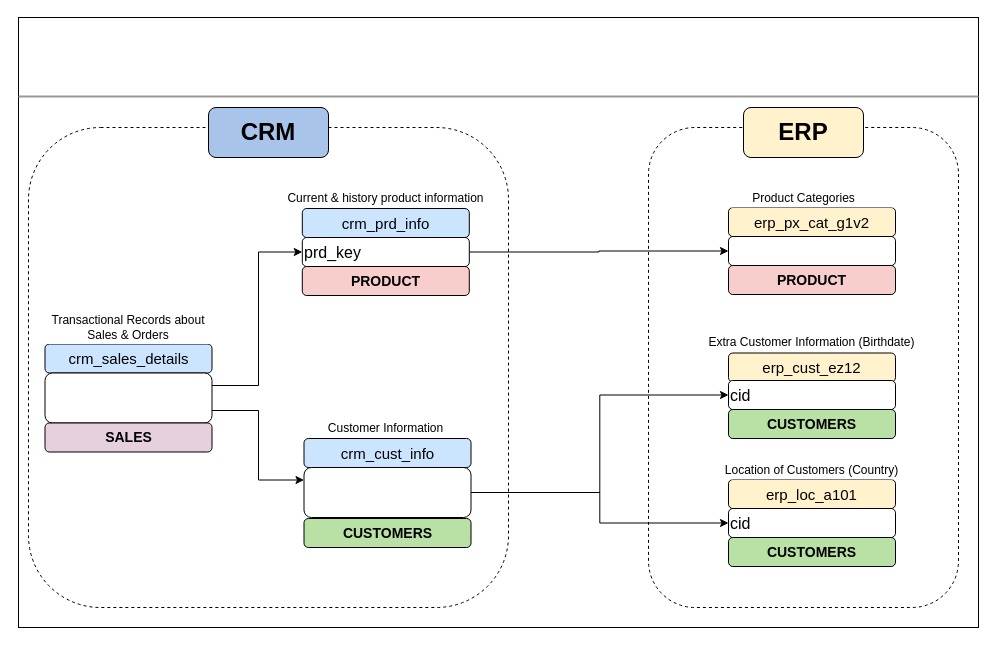
Some shapes in this 996 by 645 pixel diagram are drawn without their labels. Each missing label, with the box of its shape:
cust_id cust_key: (303, 466, 471, 518)
Data Integration ( How tables are related ): (316, 37, 680, 97)
id: (728, 236, 896, 266)
prd_key cust_id: (44, 372, 212, 423)
